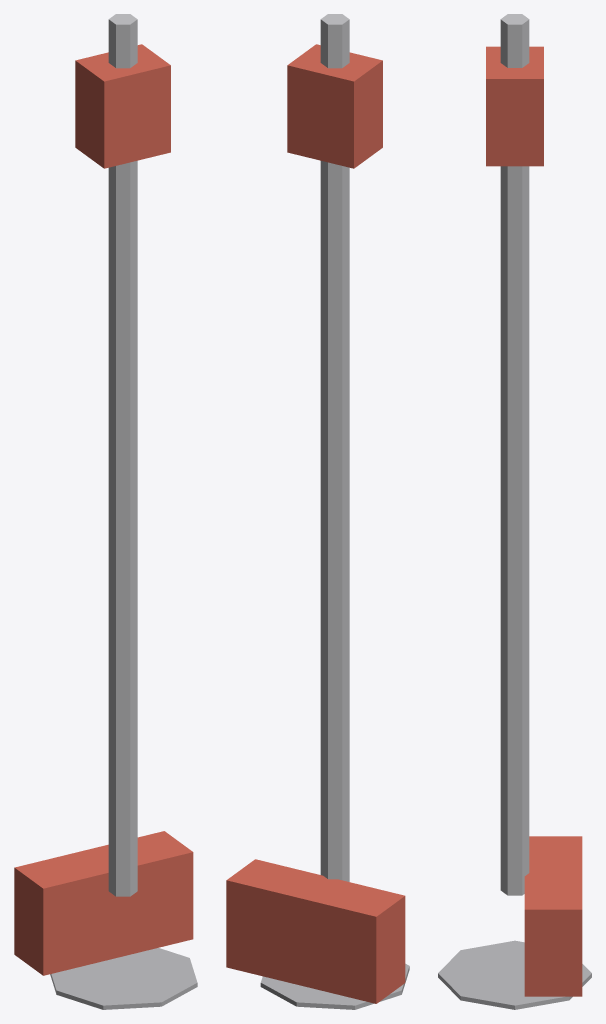
The model's file is edger.glb.
The picture shows the model from 3 angles, left to right: view 1: azimuth 30°, elevation 25°; view 2: azimuth 150°, elevation 25°; view 3: azimuth 270°, elevation 25°; orthographic projection.
Visible parts, largest first — view 1: Edger; view 2: Edger; view 3: Edger.
Boxes of the visible parts, x1,y1,x2,y2 form: Edger: (14, 14, 197, 1009); Edger: (226, 14, 409, 1009); Edger: (438, 14, 591, 1009).
Size of the model in its own units: 0.18 by 1.1 by 0.16.
